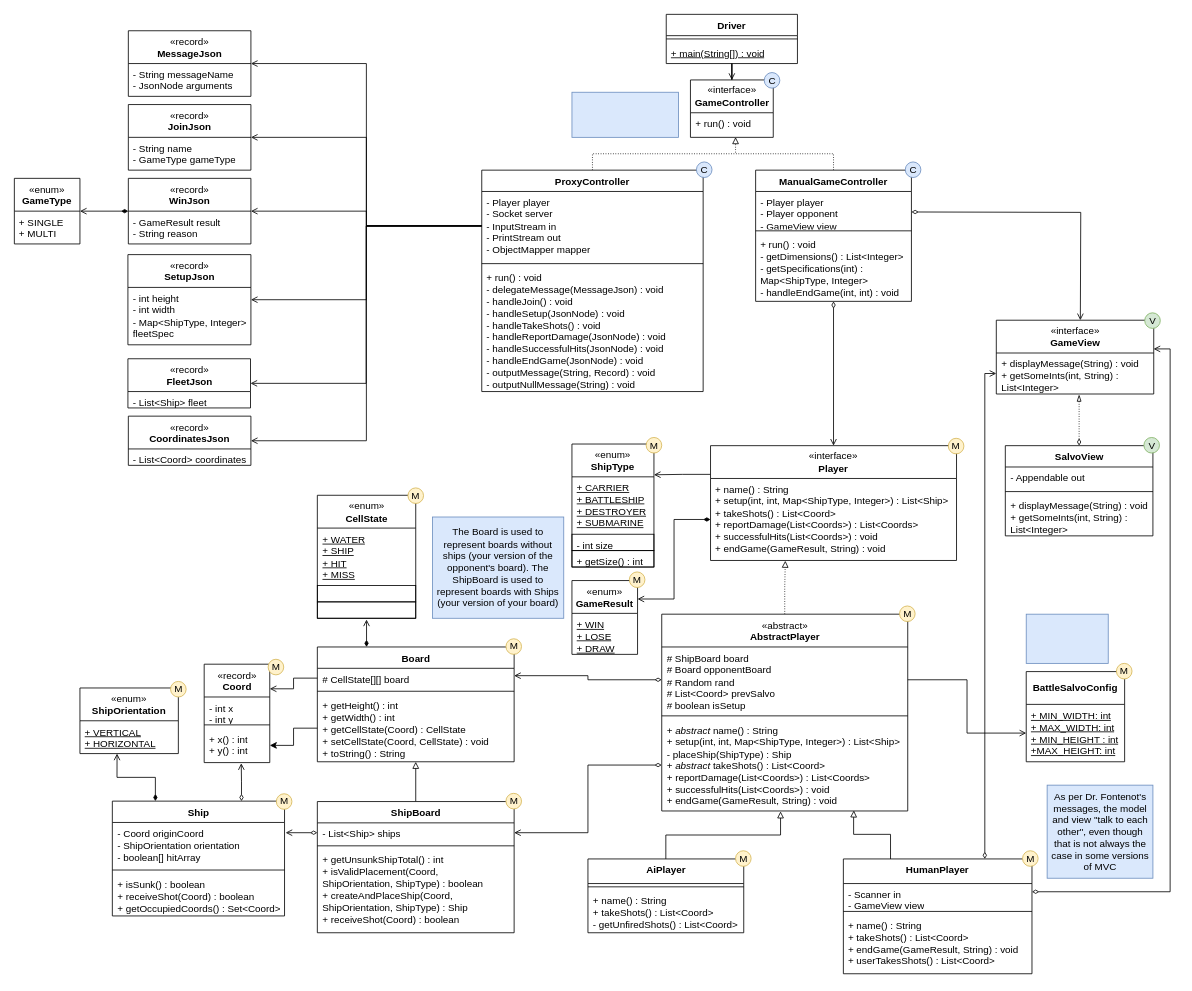
The diagram is 1192 pixels wide and 991 high, and some of its shapes have lost their labels. Each missing label, with the centre of its shape:
+ toString() : String: point (366, 609)
- String renderAs: point (366, 593)
Dr. Fontenot suggested such a class to store configuration data: point (1066, 638)
The GameController runs the main gameplay loop of the program: point (625, 114)
